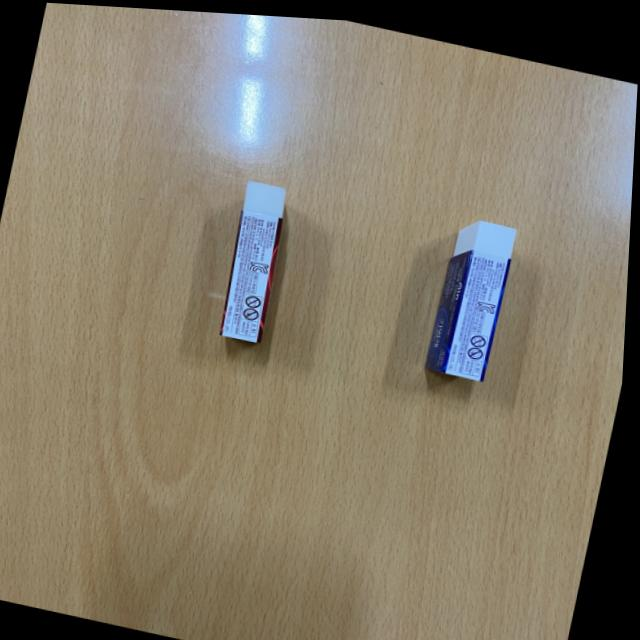blue: (423, 202, 528, 384)
red: (212, 170, 305, 351)
